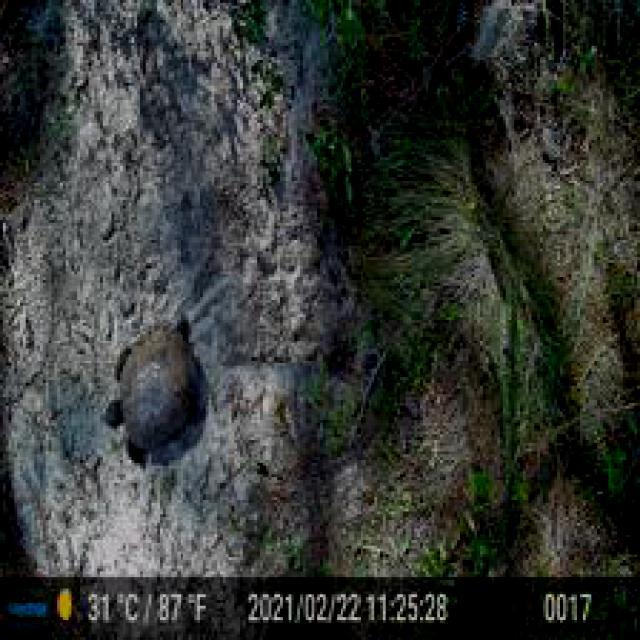tortoise: (100, 320, 200, 474)
